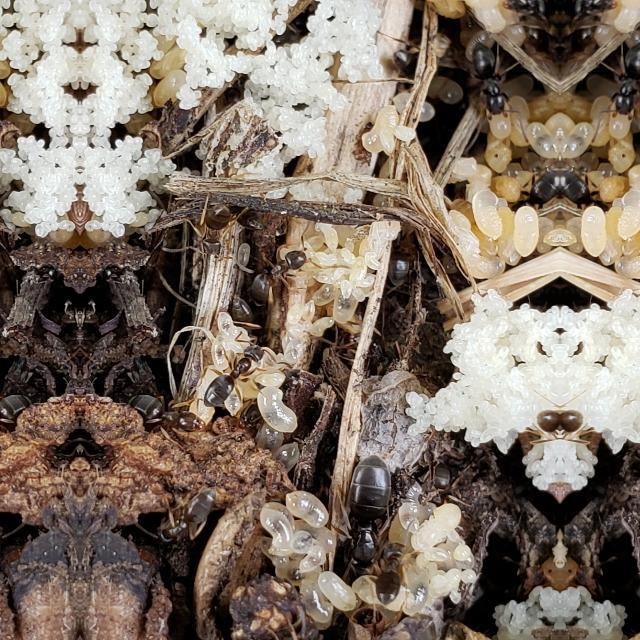Tapinoma: (332, 440, 404, 576), (146, 472, 226, 558), (382, 24, 444, 134), (458, 29, 522, 131), (197, 330, 271, 416), (240, 234, 316, 316), (130, 383, 208, 447), (598, 29, 640, 131), (519, 131, 559, 219), (561, 131, 601, 219), (412, 444, 464, 510), (377, 220, 418, 292), (378, 534, 416, 604), (196, 200, 237, 258), (525, 386, 559, 448), (561, 386, 595, 448), (496, 0, 556, 32), (564, 0, 624, 32), (0, 383, 28, 447)
